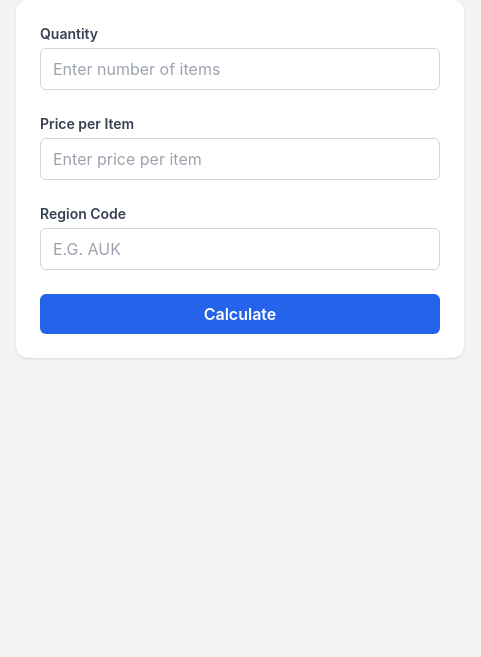
Test: CalculatorForm - Integration › calculates and displays price breakdown from user input
Note: Fill in the form
Step 1. Type "10" into the number field labelled "Quantity" → (240,69), box [40, 48, 440, 90]
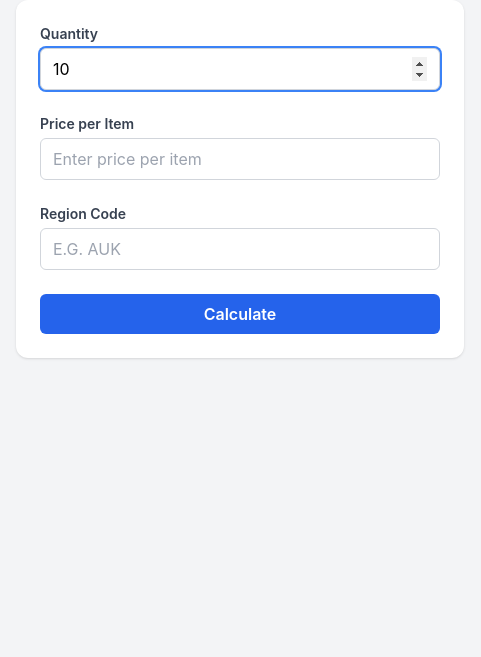
Step 2. Type "1000" into the number field labelled "Price per Item" → (240,159), box [40, 138, 440, 180]
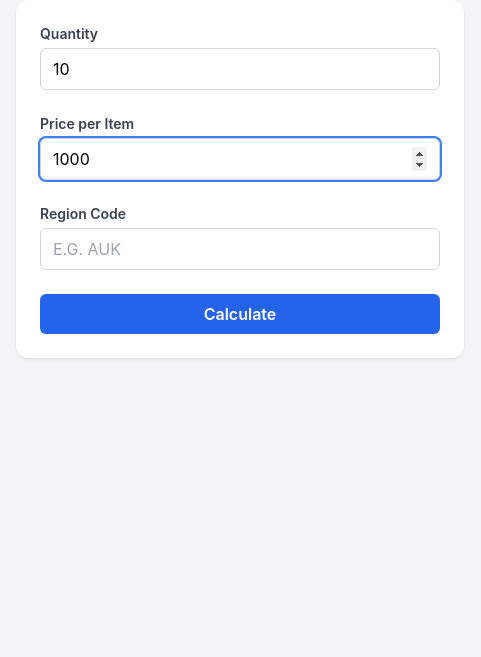
Step 3. Type "AUK" into the field labelled "Region Code" → (240,249), box [40, 228, 440, 270]
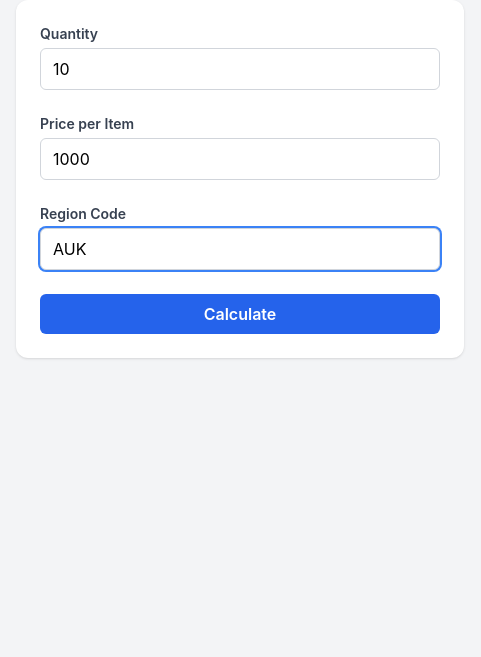
Step 4. Click the button "Calculate" → (240,314), box [40, 294, 440, 334]
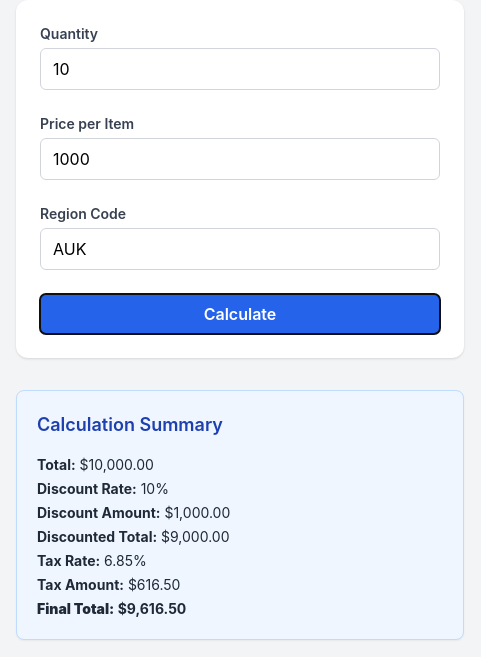
Result: the heading "Calculation Summary" is shown at [37, 414, 223, 435]
